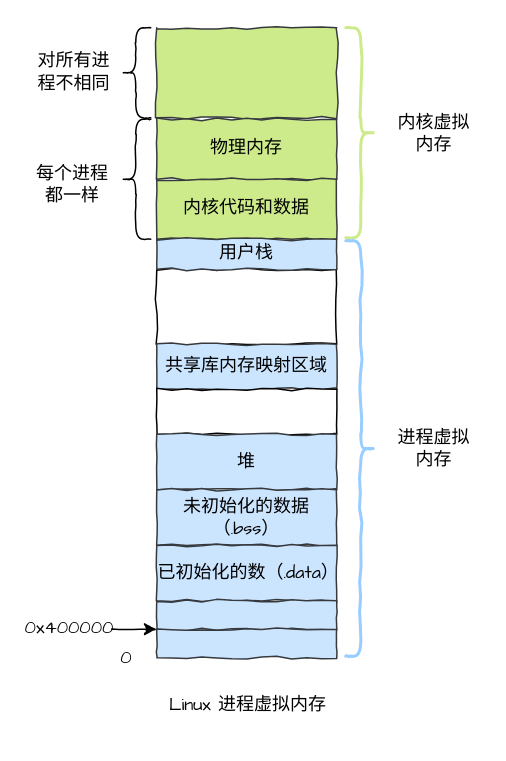
Some shapes in this 506 by 761 pixel diagram are drawn without their labels. Each missing label, with the centre of its shape:
与进程相关的数据结构（例如，页表，task和mm结构，内核栈等）: (246,72)
代码（.text）: (246,614)
